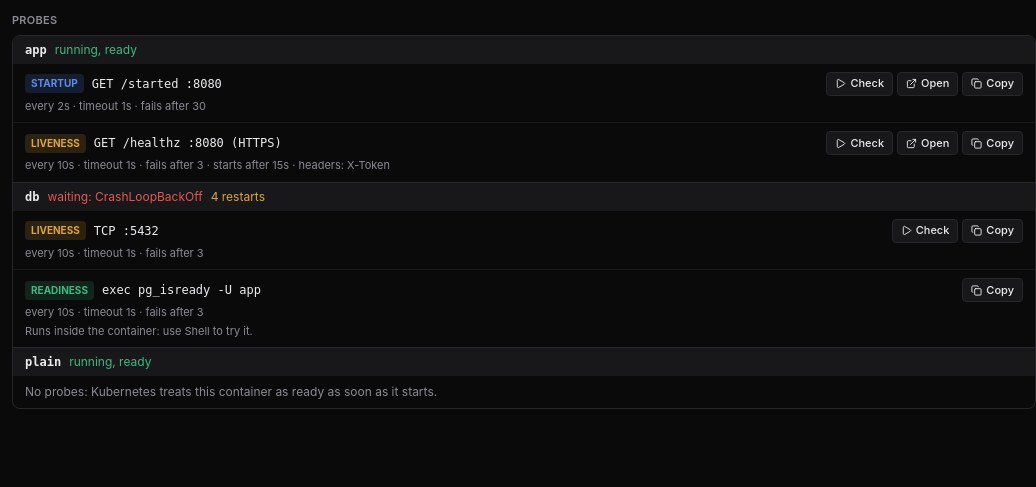
Test: ProbesSection › runs a probe on request and shows the verdict, timing and body
Click the button "Check" in the row of "GET /started :8080".
click(860, 84)  # box [826, 72, 893, 96]
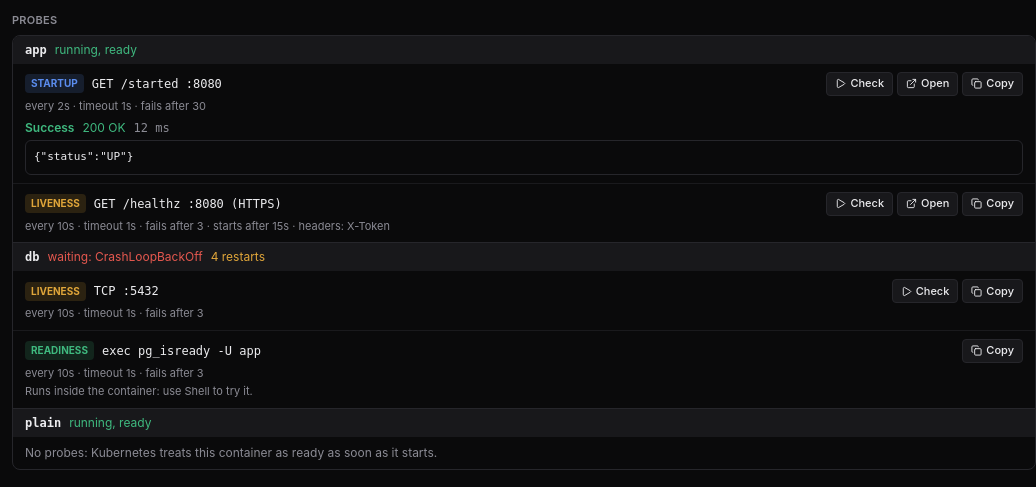
Now the text "Success" is shown, box [25, 120, 74, 136]
Now the text "12 ms" is shown, box [134, 120, 170, 136]
Now the text "{\"status\":\"UP\"}" is shown, box [25, 140, 1023, 174]
